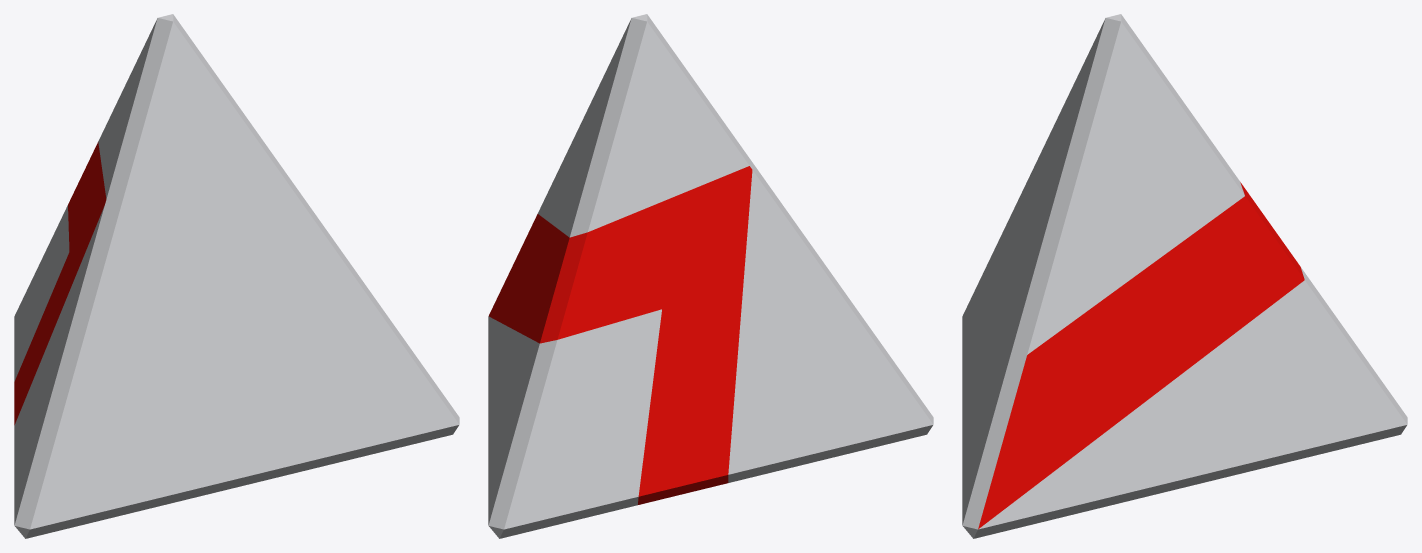
The model's file is K1_Triangle.fbx.
3 renders of one model, left to right at view 1: azimuth 30°, elevation 25°; view 2: azimuth 150°, elevation 25°; view 3: azimuth 270°, elevation 25°, orthographic.
Parts seen in each view (by area): view 1: Cylinder.003; view 2: Cylinder.003; view 3: Cylinder.003.
Boxes of the visible parts, x1=… form: Cylinder.003: x1=14, y1=14, x2=459, y2=538; Cylinder.003: x1=488, y1=14, x2=933, y2=538; Cylinder.003: x1=962, y1=14, x2=1407, y2=538.
Size of the model in its own units: 211 by 189 by 183.
